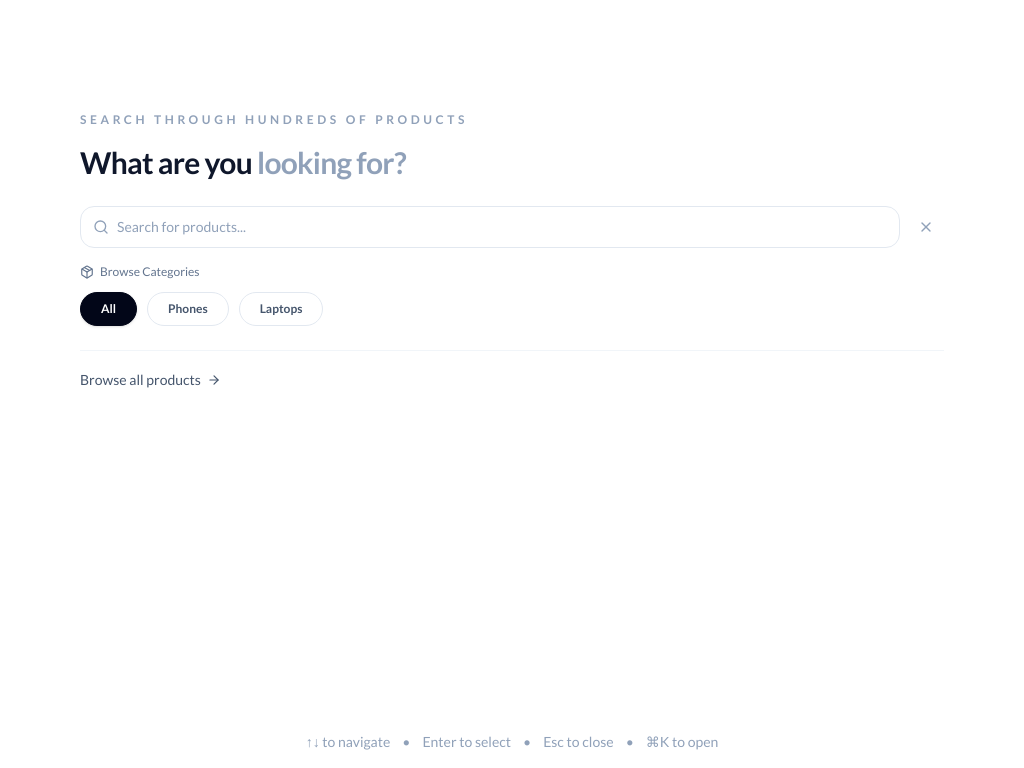
Test: SearchModal › shows and applies the clear button while typing
This screenshot has width=1024, height=768.
Type "phone" into the field with placeholder "Search for products...".
click(504, 226); type("phone")  # box [109, 206, 899, 246]
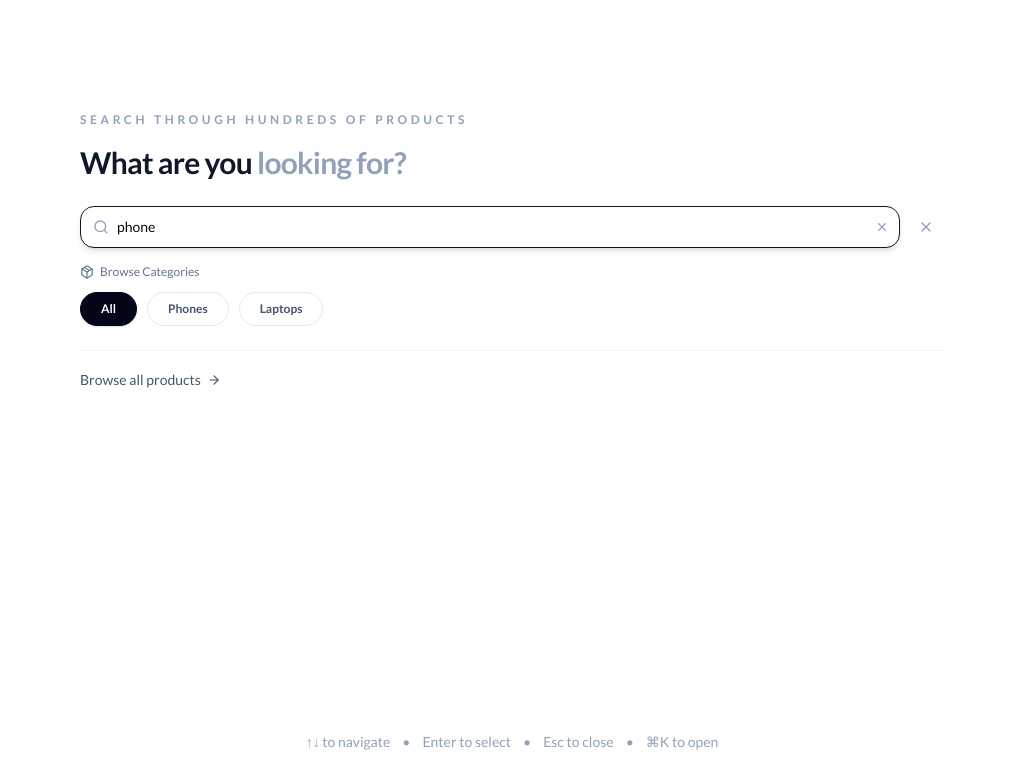
Click the button named "clear search".
click(882, 226)  # box [871, 216, 893, 238]
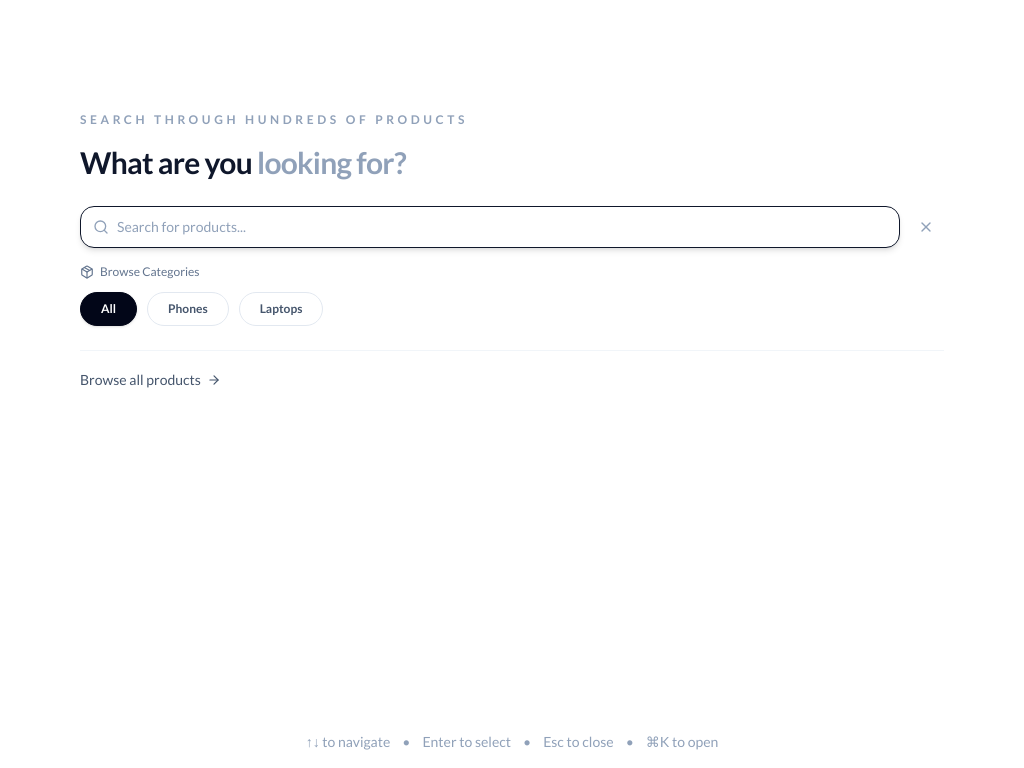
Expected: the field with placeholder "Search for products..." is empty, [109, 206, 899, 246]
